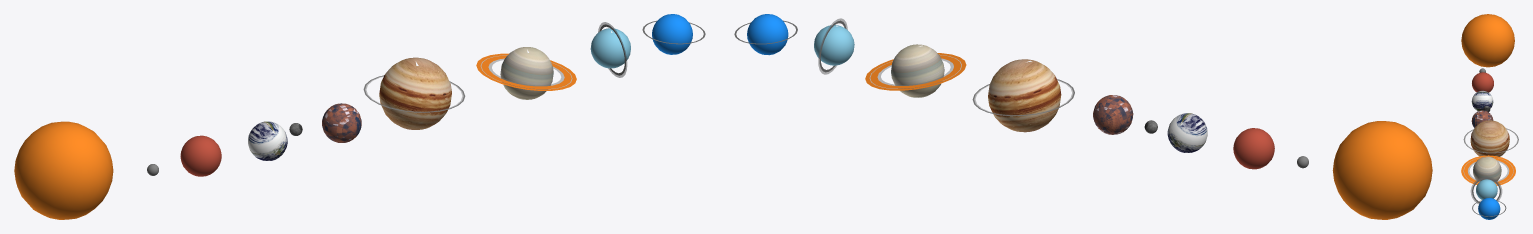
Rendered from solar.glb.
3 renders of one model, left to right at view 1: azimuth 30°, elevation 25°; view 2: azimuth 150°, elevation 25°; view 3: azimuth 270°, elevation 25°, orthographic. The views are drawn at different scales.
Visible parts, largest first — view 1: root, object 2; view 2: root, object 2; view 3: root, object 2.
Boxes of the visible parts, x1,y1,x2,y2 form: root: (14, 14, 705, 219); object 2: (476, 53, 576, 90); root: (734, 14, 1432, 219); object 2: (865, 53, 966, 90); root: (1461, 14, 1518, 219); object 2: (1461, 155, 1515, 185).
Size of the model in its own units: 67.79 by 8.54 by 9.2.
Materials: 12 (5 with a texture image).
